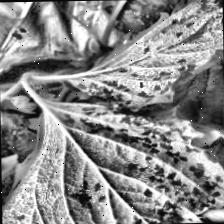Angular Leafspot: (0, 96, 224, 224), (60, 0, 224, 112)
